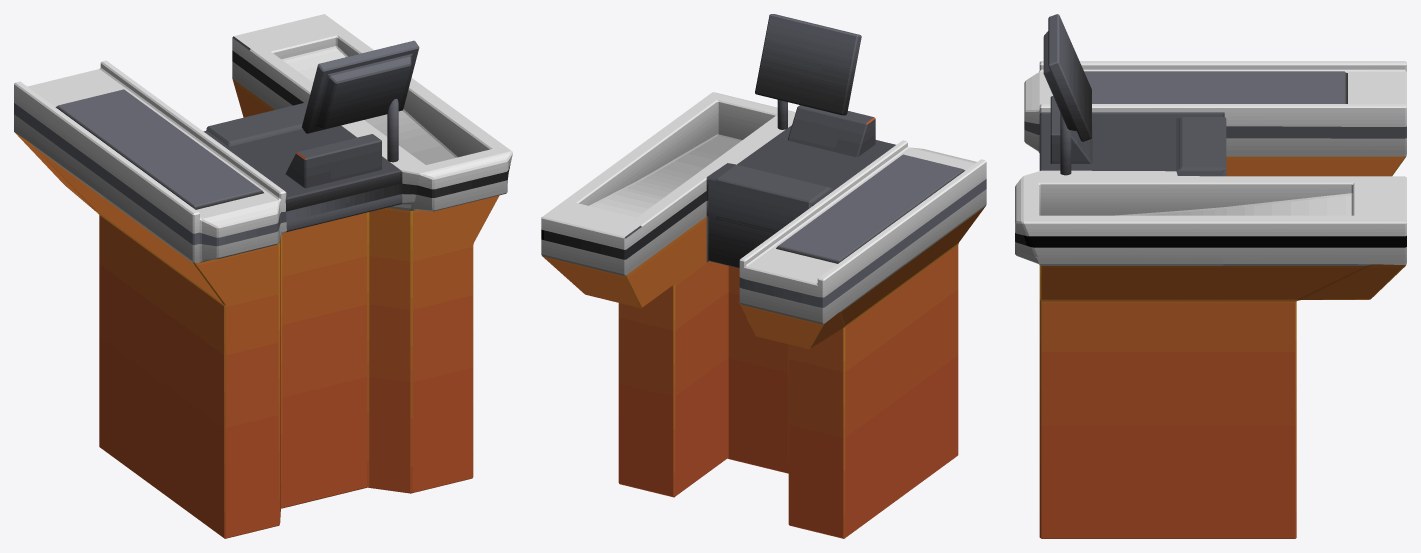
File: caisse.glb
3 views of the same model, side by side, from view 1: azimuth 30°, elevation 25°; view 2: azimuth 150°, elevation 25°; view 3: azimuth 270°, elevation 25° (orthographic). The views are drawn at different scales.
Visible parts, largest first — view 1: Cube; view 2: Cube; view 3: Cube.
Part boxes in pixels (left/top/right/bottom): Cube: left=14, top=14, right=512, bottom=538; Cube: left=541, top=14, right=986, bottom=538; Cube: left=1015, top=14, right=1406, bottom=538.
Bounding box in the file's own units: 2 × 2.72 × 2.13.
1 material, 1 textured.
